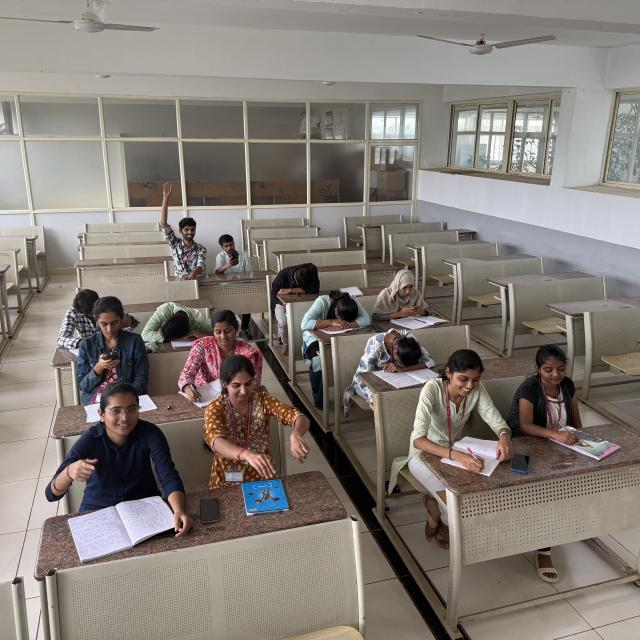Hand Rising: (154, 180, 209, 270)
Sleeping: (356, 328, 436, 374), (302, 283, 366, 334), (142, 299, 206, 345), (271, 262, 324, 304)
Using Phone: (78, 296, 150, 382), (371, 266, 432, 318), (214, 230, 252, 272)
Writing: (418, 349, 506, 472), (181, 307, 263, 407), (518, 352, 594, 453)
